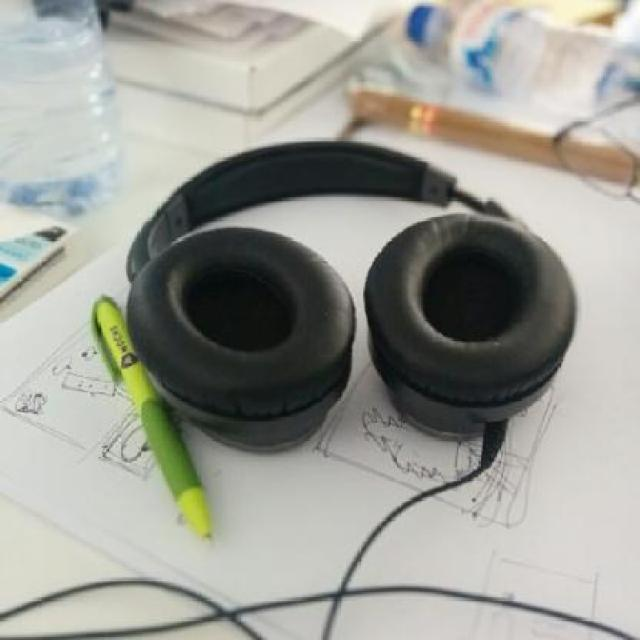earphone: (143, 118, 597, 437)
